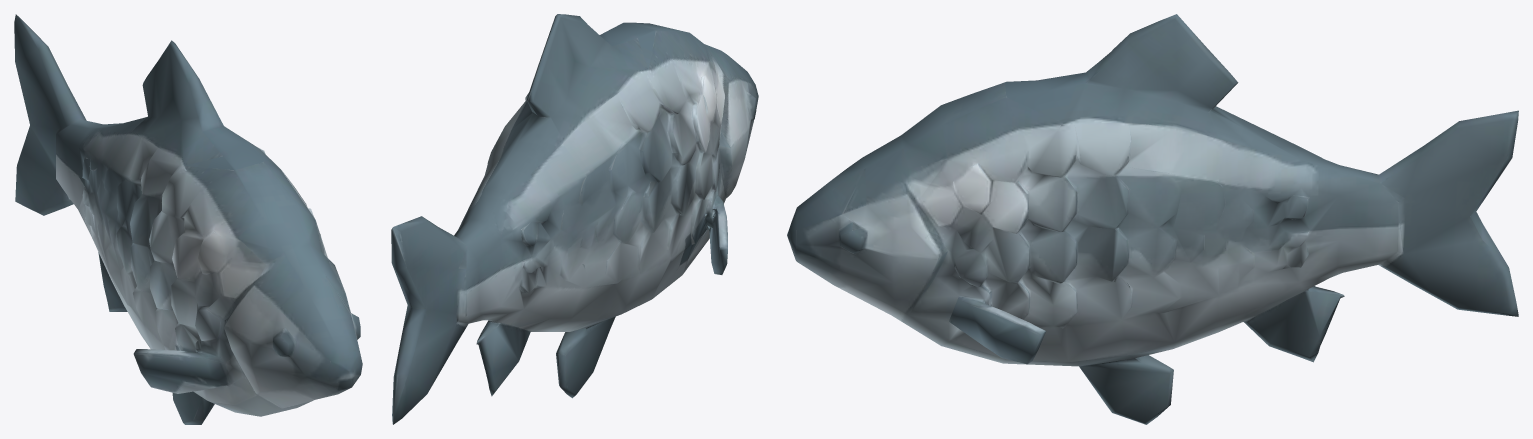
The model's file is fish.glb.
3 views of the same model, side by side, from view 1: azimuth 30°, elevation 25°; view 2: azimuth 150°, elevation 25°; view 3: azimuth 270°, elevation 25° (orthographic). The views are drawn at different scales.
Visible parts, largest first — view 1: Mesh_0; view 2: Mesh_0; view 3: Mesh_0.
Boxes of the visible parts, x1,y1,x2,y2 form: Mesh_0: (14, 14, 362, 424); Mesh_0: (391, 14, 758, 424); Mesh_0: (787, 14, 1518, 424).
Size of the model in its own units: 0.6611 by 1.18 by 1.91.
Materials: 1 (1 with a texture image).
